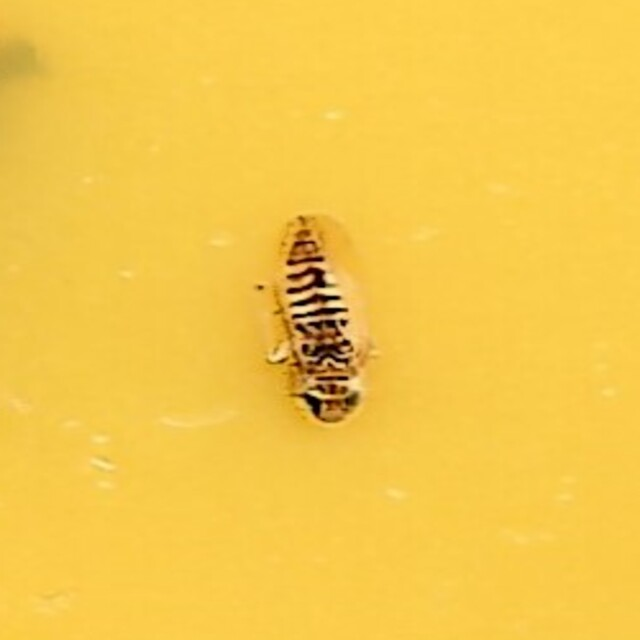Hemiptera: (256, 201, 384, 439)
